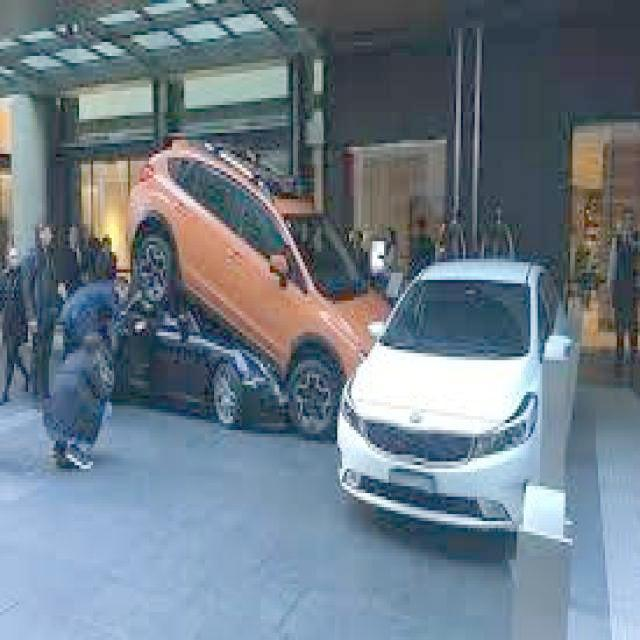car Accident: (144, 270, 535, 472)
